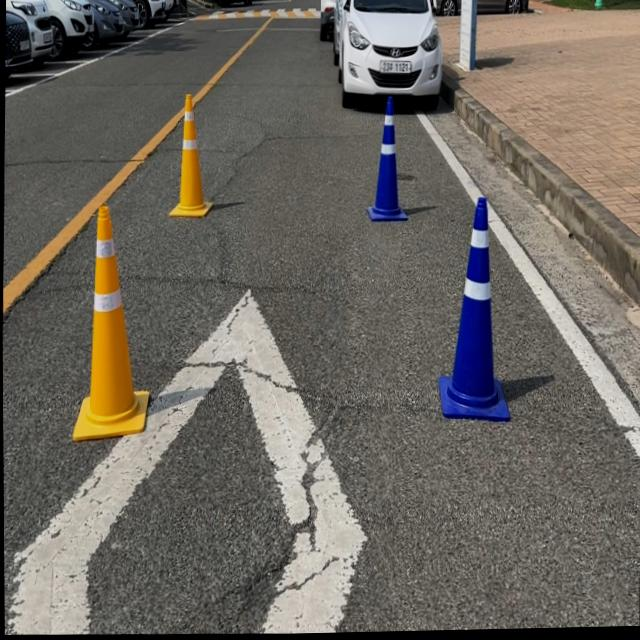b_rub: (438, 198, 509, 423), (366, 96, 407, 221)
y_rub: (71, 204, 148, 441), (168, 93, 212, 217)
